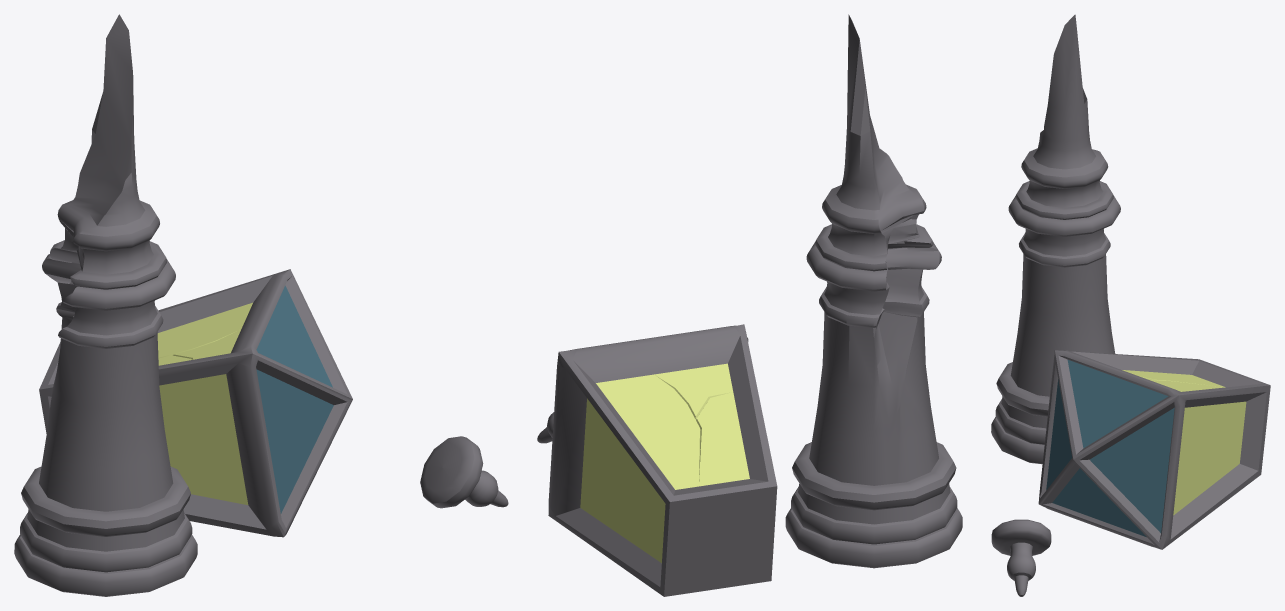
File: StreetLightBroken.glb
3 views of the same model, side by side, from view 1: azimuth 30°, elevation 25°; view 2: azimuth 150°, elevation 25°; view 3: azimuth 270°, elevation 25° (orthographic). The views are drawn at different scales.
Visible parts, largest first — view 1: Cube.003; view 2: Cube.003; view 3: Cube.003.
Part boxes in pixels (x1,y1,x2,y2): Cube.003: [14, 14, 508, 596]; Cube.003: [537, 14, 962, 596]; Cube.003: [991, 14, 1270, 596].
Size of the model in its own units: 1.43 by 1.66 by 0.9462.
